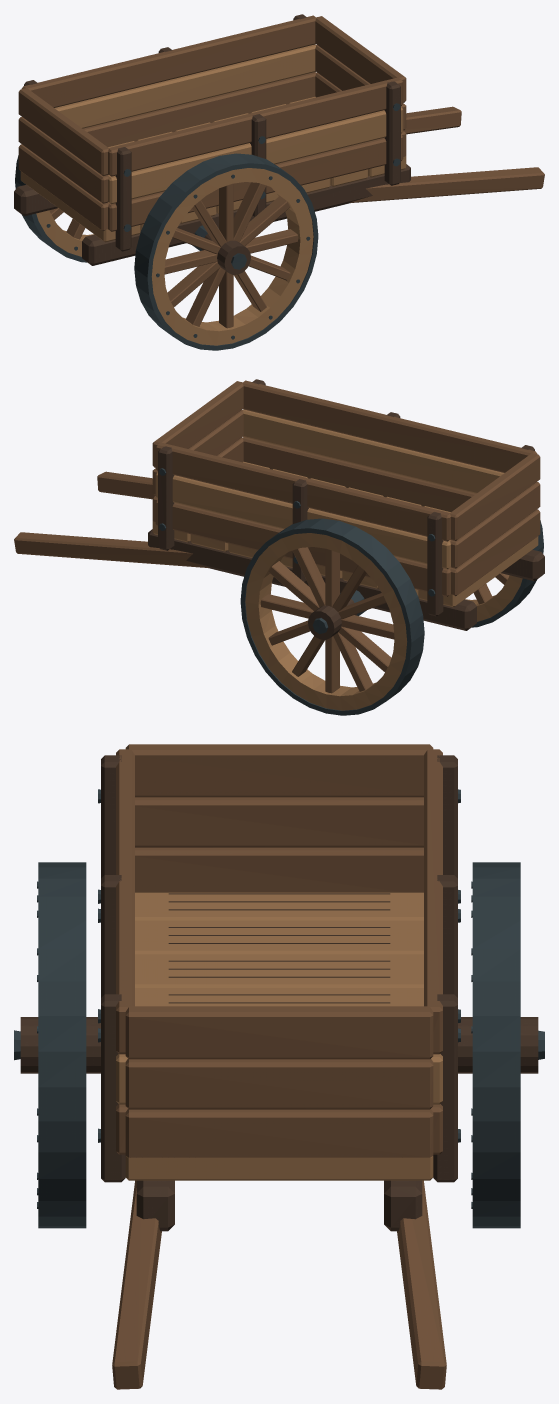
Rendered from cart_empty.glb.
3 views of the same model, one above another, from view 1: azimuth 30°, elevation 25°; view 2: azimuth 150°, elevation 25°; view 3: azimuth 270°, elevation 25° (orthographic). The views are drawn at different scales.
Parts seen in each view (by area): view 1: Detailed structure surfaces; view 2: Detailed structure surfaces; view 3: Detailed structure surfaces.
Boxes of the visible parts, x1=… form: Detailed structure surfaces: x1=14, y1=14, x2=544, y2=350; Detailed structure surfaces: x1=14, y1=379, x2=544, y2=715; Detailed structure surfaces: x1=14, y1=744, x2=544, y2=1389.
Bounding box in the file's own units: 3.2 × 1.4 × 1.8.
1 material, 1 textured.
